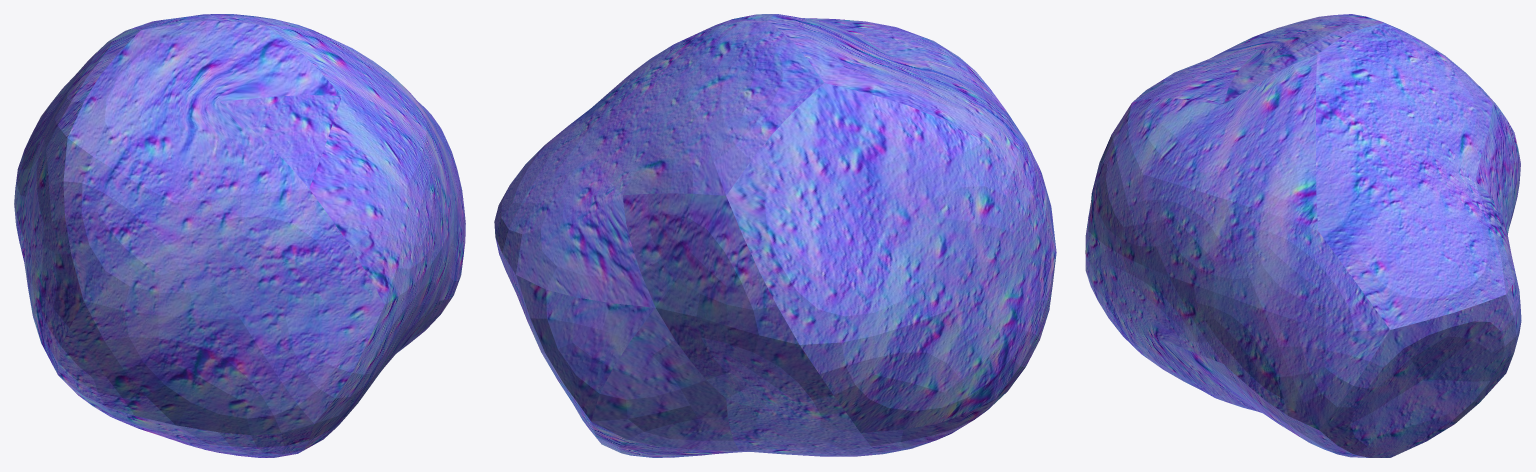
The model's file is mediumasteroid9_LOD2.fbx.
The picture shows the model from 3 angles, left to right: view 1: azimuth 30°, elevation 25°; view 2: azimuth 150°, elevation 25°; view 3: azimuth 270°, elevation 25°; orthographic projection. The views are drawn at different scales.
Parts seen in each view (by area): view 1: Icosphere; view 2: Icosphere; view 3: Icosphere.
Boxes of the visible parts, <box> form: Icosphere: <box>14,14,465,457</box>; Icosphere: <box>494,14,1056,457</box>; Icosphere: <box>1085,14,1521,457</box>.
Bounding box in the file's own units: 253 × 214 × 232.
